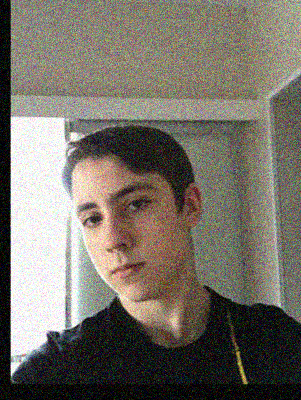without_mask: (72, 178, 170, 304)
